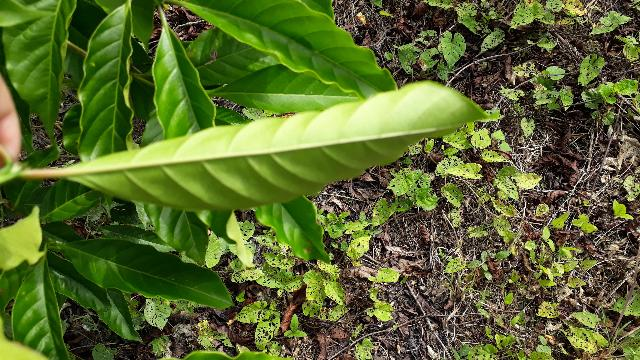healthy: (40, 75, 508, 214)
